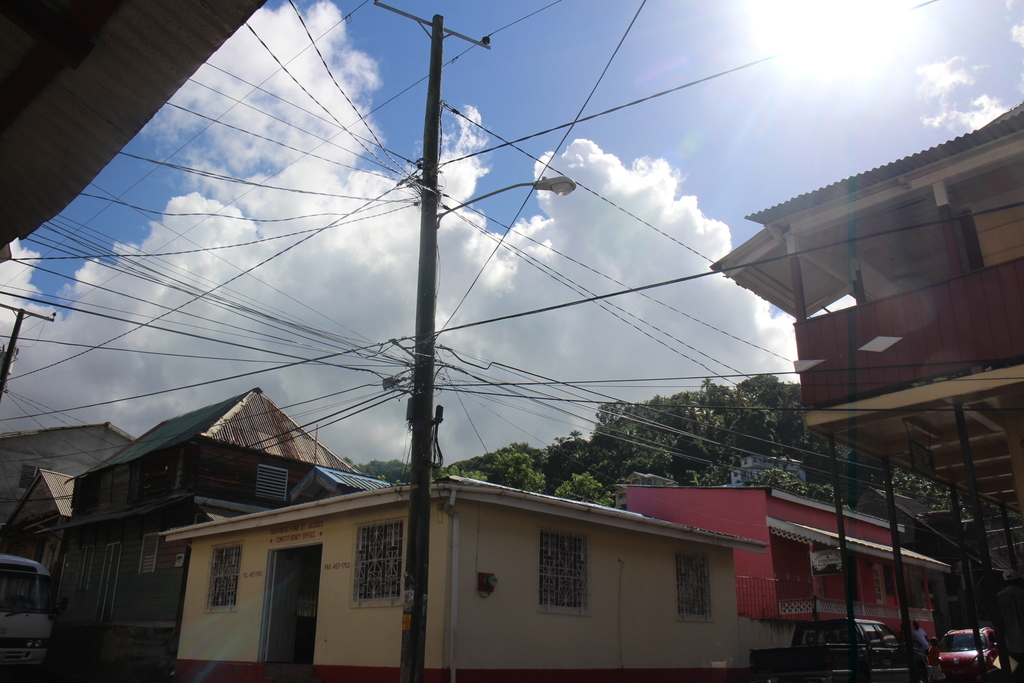Car: (790, 610, 900, 658), (930, 624, 1005, 682)
